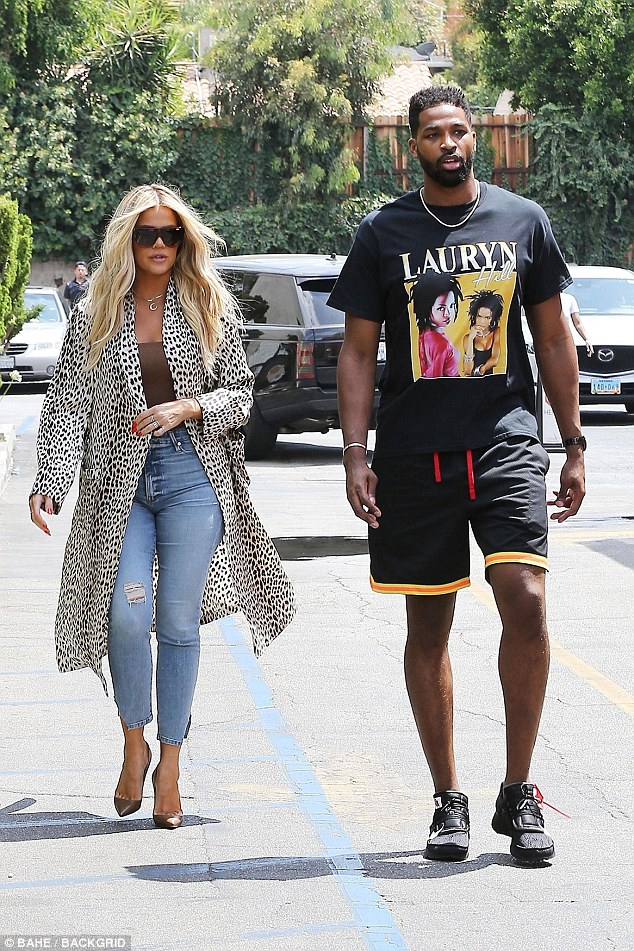Person: (339, 85, 583, 863), (47, 188, 280, 844)
